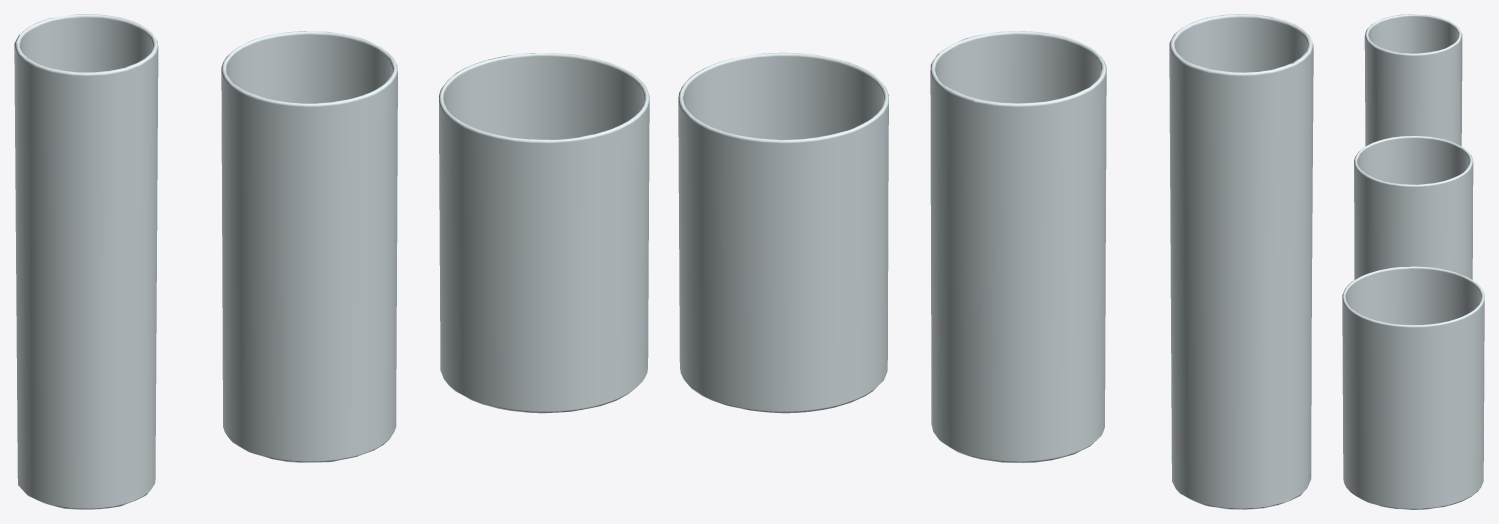
File: cylinder_wazon_3_szt_60175092.glb
3 views of the same model, side by side, from view 1: azimuth 30°, elevation 25°; view 2: azimuth 150°, elevation 25°; view 3: azimuth 270°, elevation 25° (orthographic). The views are drawn at different scales.
Parts seen in each view (by area): view 1: cylinder_wazon_3_szt_60175092; view 2: cylinder_wazon_3_szt_60175092; view 3: cylinder_wazon_3_szt_60175092.
Part boxes in pixels (x1,y1,x2,y2): cylinder_wazon_3_szt_60175092: [14, 14, 649, 509]; cylinder_wazon_3_szt_60175092: [678, 14, 1313, 509]; cylinder_wazon_3_szt_60175092: [1342, 14, 1484, 509].
Size of the model in its own units: 0.4081 by 0.2801 by 0.122.
3 materials, 3 textured.
